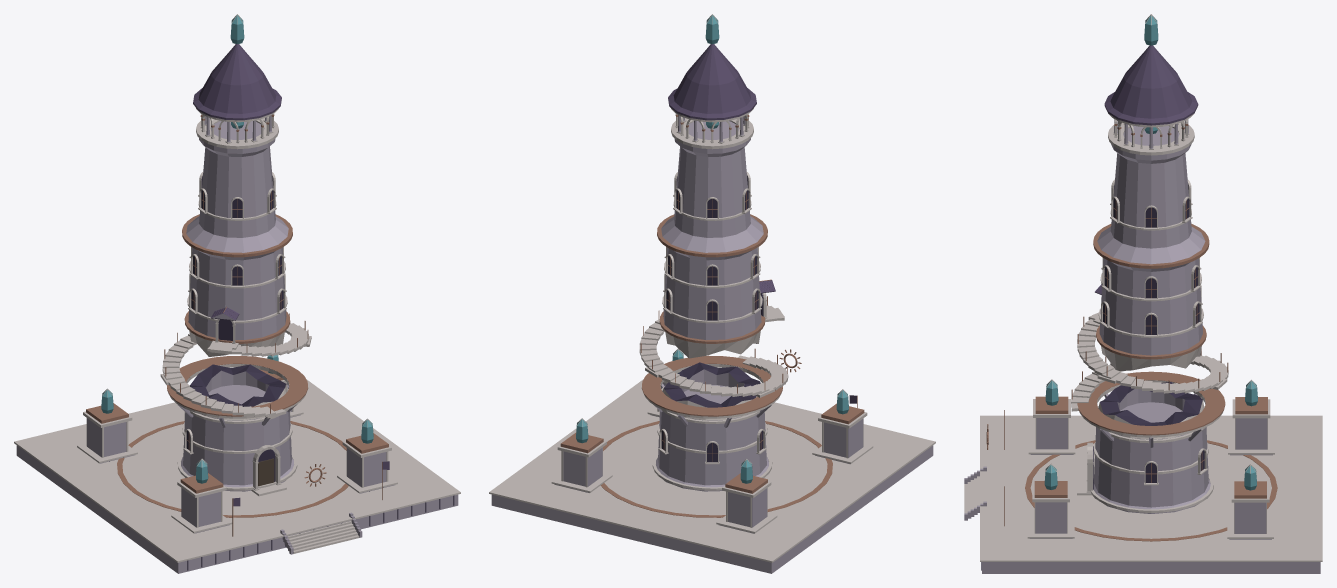
The model's file is suspended-tower.glb.
The picture shows the model from 3 angles, left to right: view 1: azimuth 30°, elevation 25°; view 2: azimuth 150°, elevation 25°; view 3: azimuth 270°, elevation 25°; orthographic projection. The views are drawn at different scales.
Visible parts, largest first — view 1: anchor-court, floating-shaft, lower-stump, floating-shaft-roof, light-bridge; view 2: anchor-court, floating-shaft, lower-stump, floating-shaft-roof, light-bridge; view 3: anchor-court, floating-shaft, lower-stump, floating-shaft-roof, light-bridge.
Boxes of the visible parts, x1=… form: anchor-court: x1=14, y1=355, x2=460, y2=573; floating-shaft: x1=182, y1=107, x2=292, y2=356; lower-stump: x1=167, y1=355, x2=308, y2=496; floating-shaft-roof: x1=193, y1=14, x2=281, y2=320; light-bridge: x1=160, y1=313, x2=389, y2=536; anchor-court: x1=489, y1=348, x2=935, y2=573; floating-shaft: x1=657, y1=107, x2=777, y2=358; lower-stump: x1=641, y1=355, x2=782, y2=491; floating-shaft-roof: x1=668, y1=14, x2=775, y2=293; light-bridge: x1=639, y1=296, x2=857, y2=407; anchor-court: x1=964, y1=379, x2=1322, y2=573; floating-shaft: x1=1093, y1=113, x2=1209, y2=370; lower-stump: x1=1077, y1=371, x2=1225, y2=513; floating-shaft-roof: x1=1095, y1=14, x2=1198, y2=294; light-bridge: x1=986, y1=312, x2=1228, y2=526.
Bounding box in the file's own units: 30.35 × 47.75 × 31.74.
